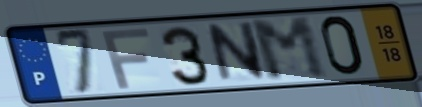0: (317, 14, 368, 79)
3: (159, 24, 213, 87)
7: (51, 27, 96, 98)
F: (98, 26, 152, 91)
M: (246, 14, 332, 84)
N: (204, 19, 270, 86)
